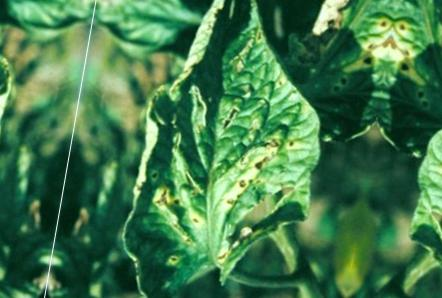Tomato Septoria leaf spot: (105, 0, 350, 298)
